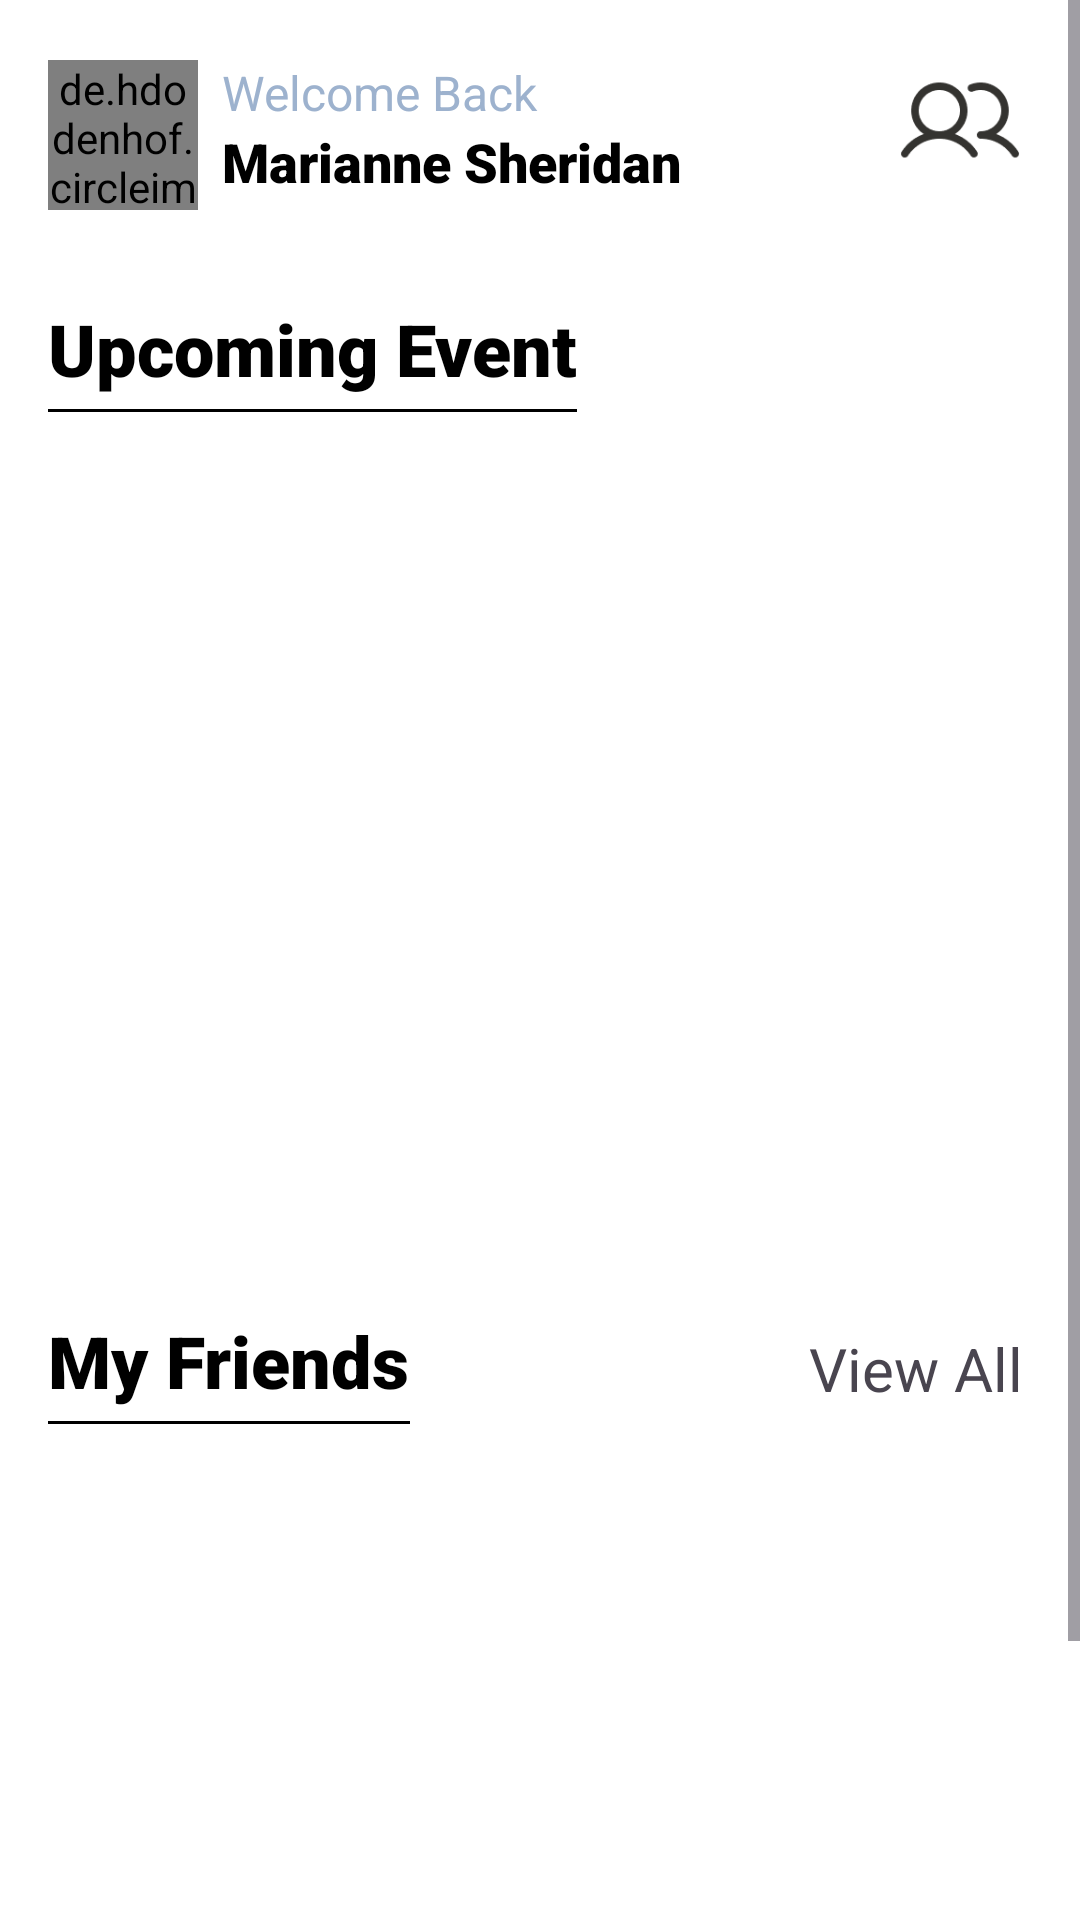

Named icons in this screenshot (1080×1920) and their centers, point (x, y):
Friend Requests: point (960, 120)
